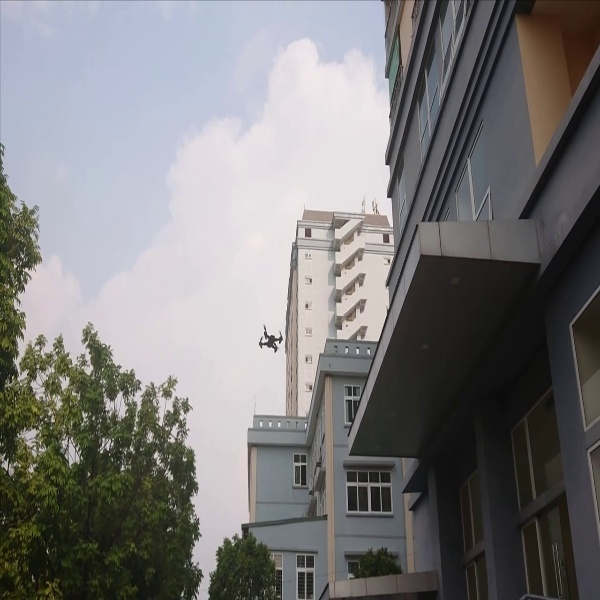drone: (244, 319, 293, 361)
